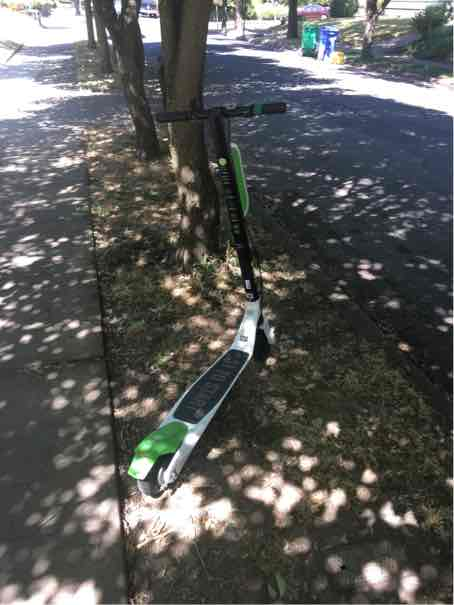scooter: (100, 90, 291, 488)
